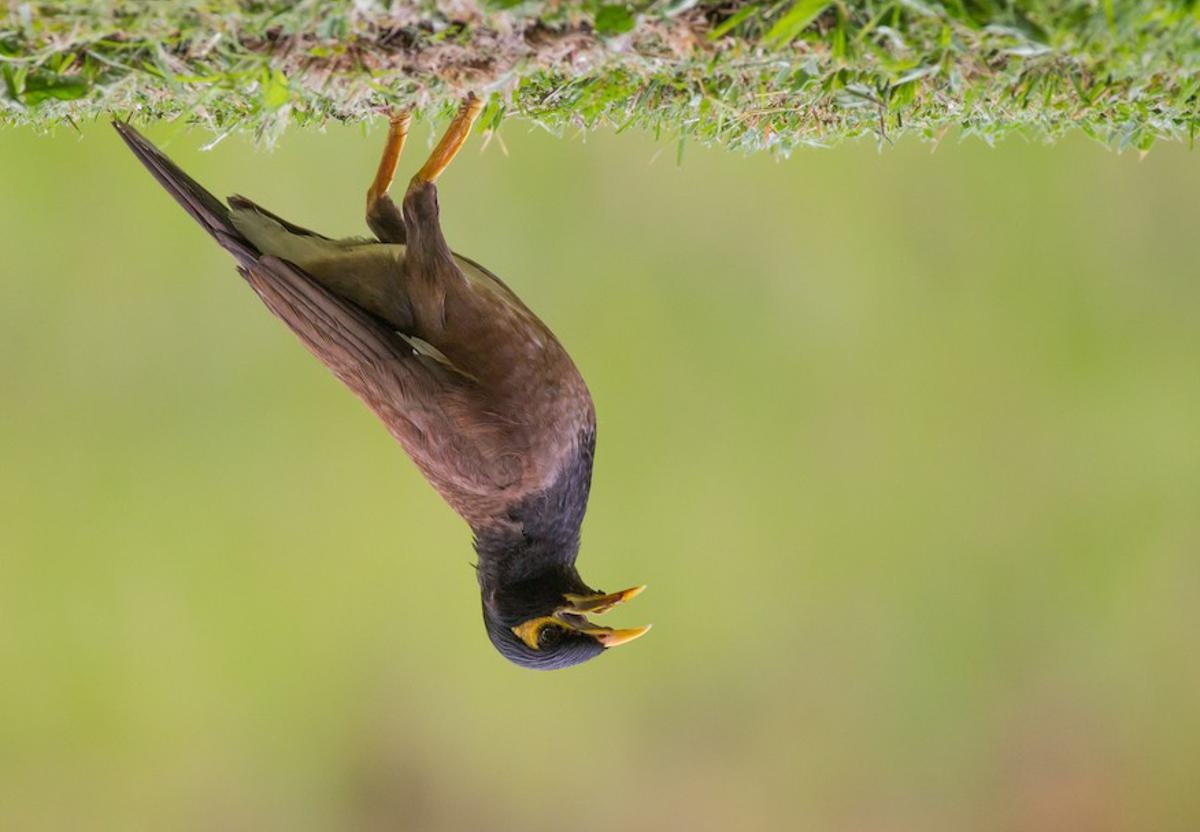myna: (195, 86, 693, 671)
